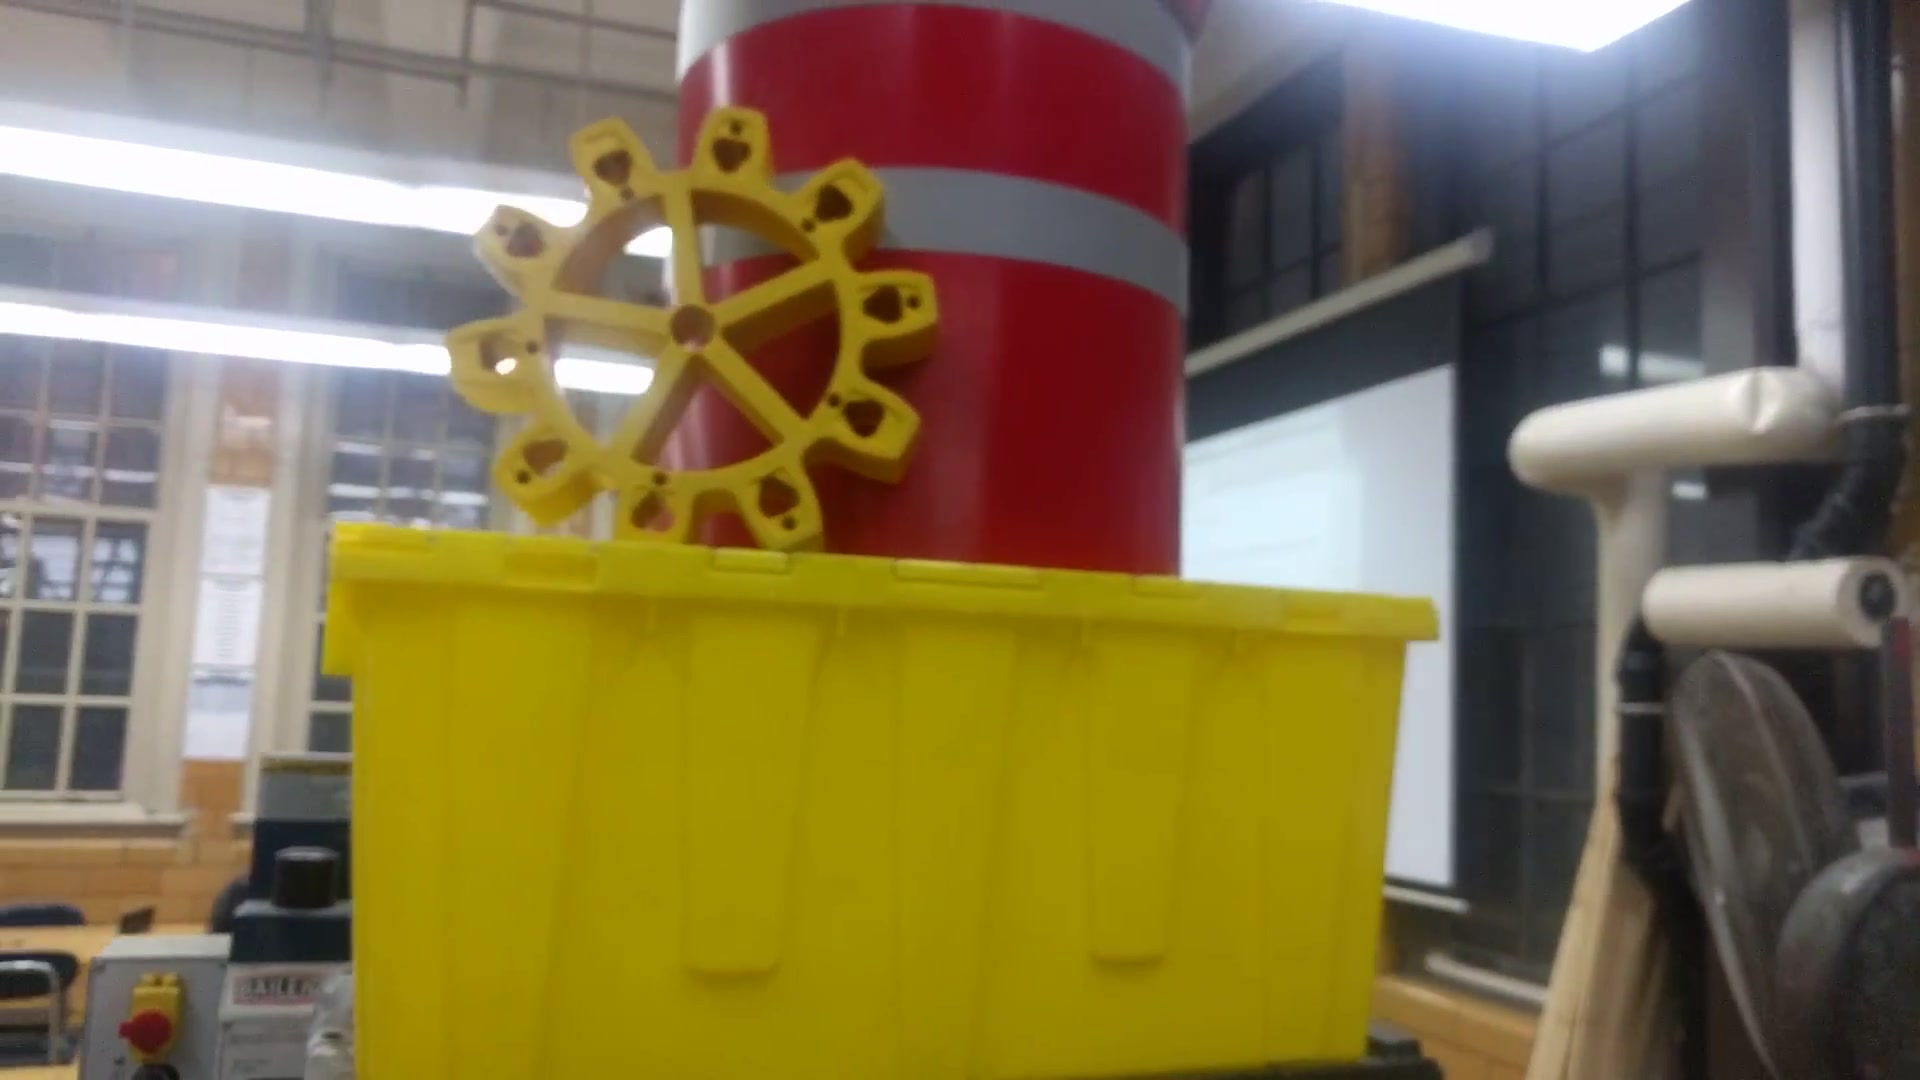gear: (447, 90, 934, 588)
